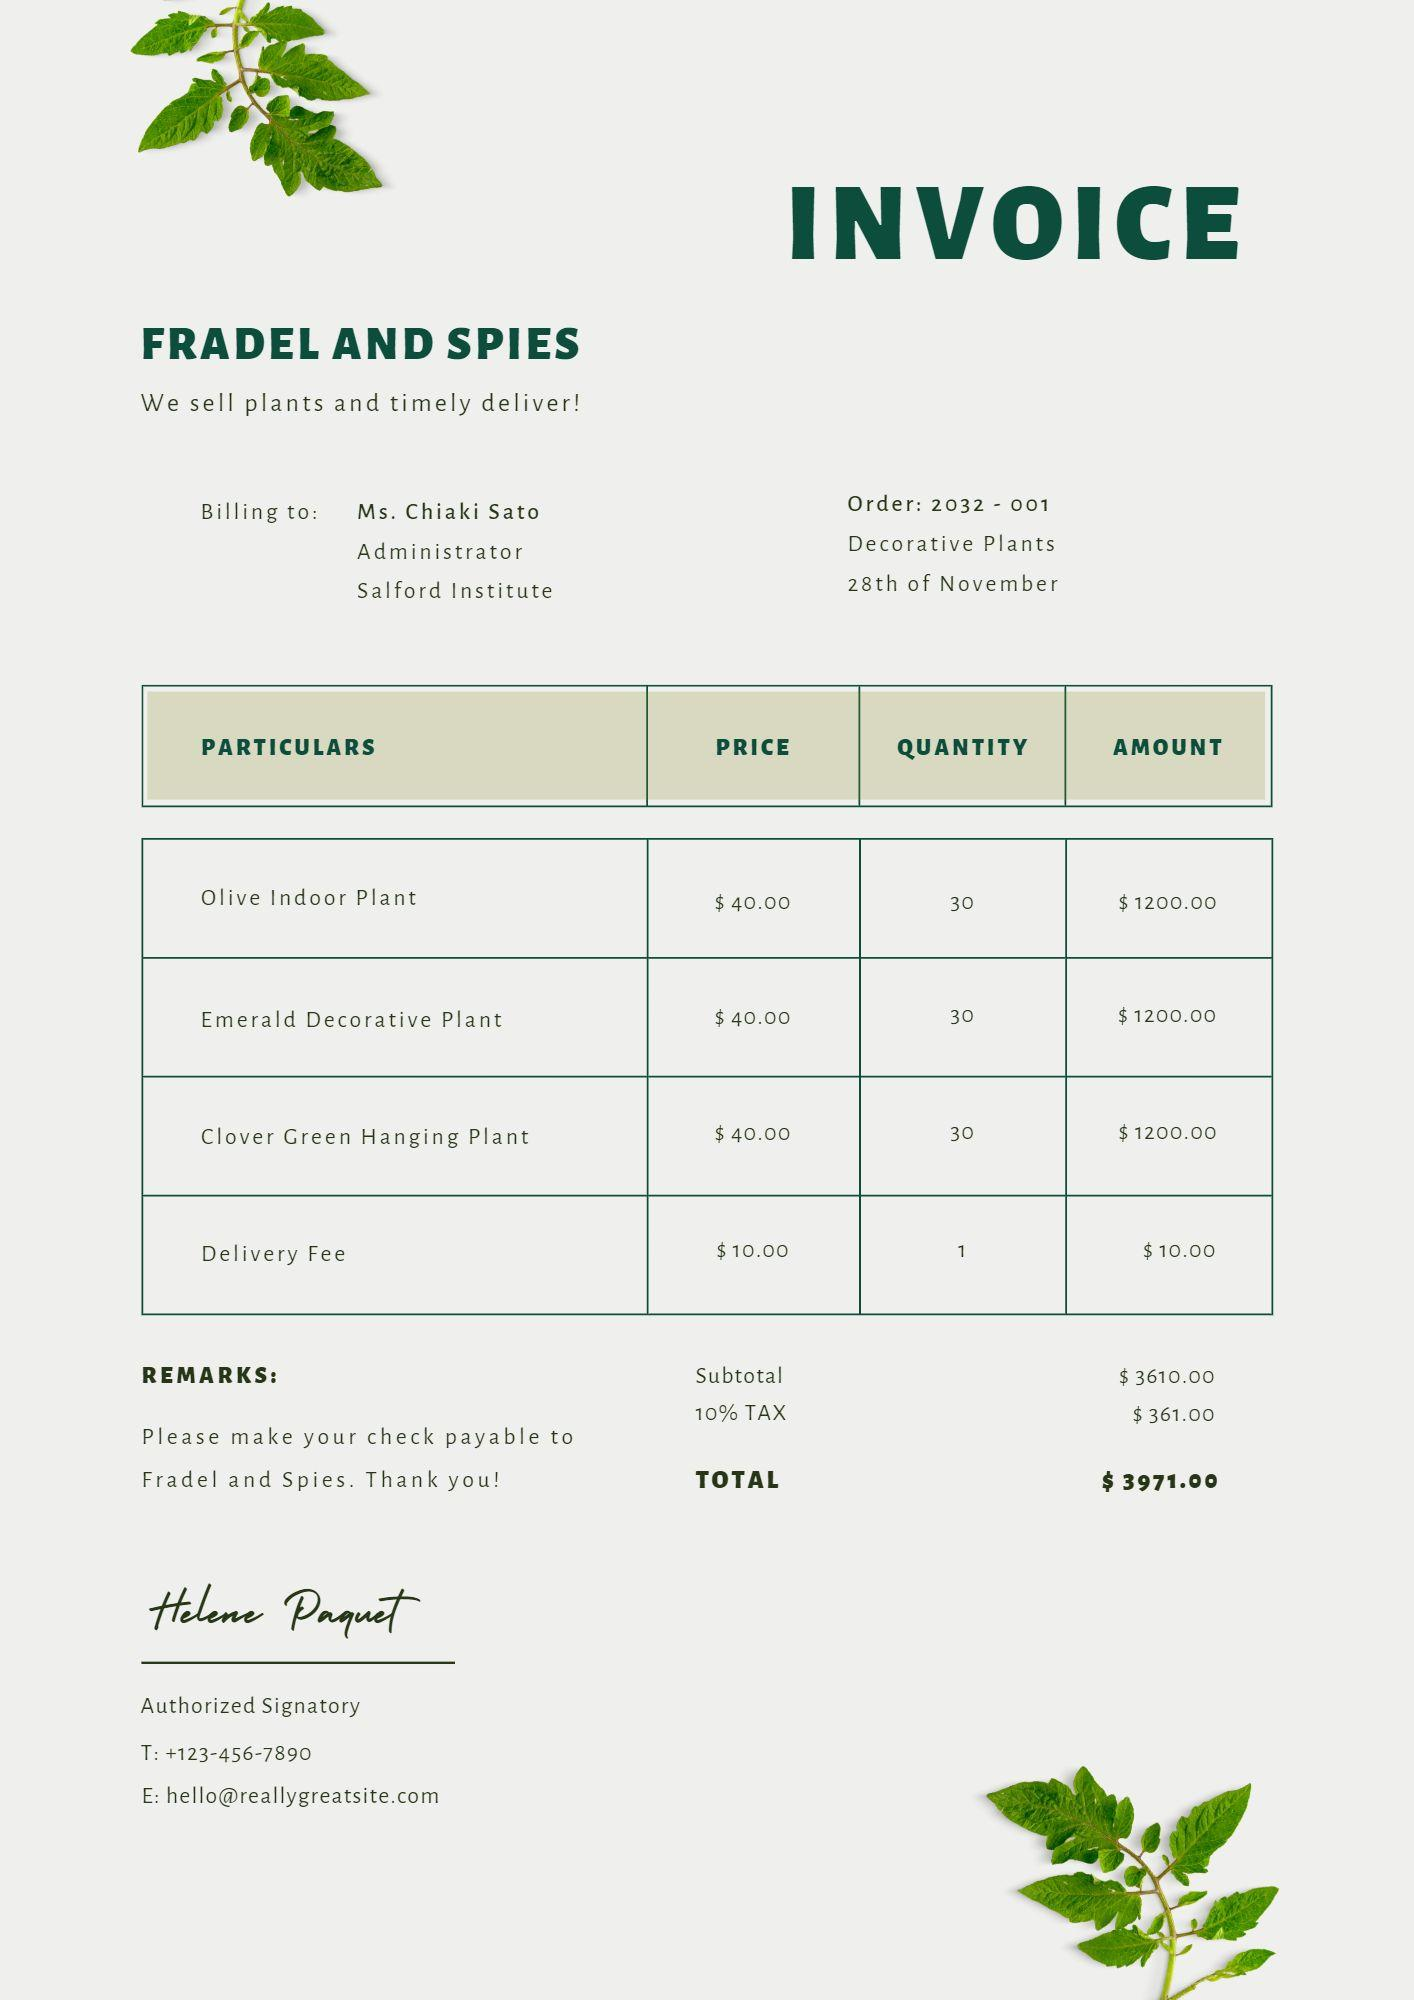ROI: (130, 670, 1285, 1334)
